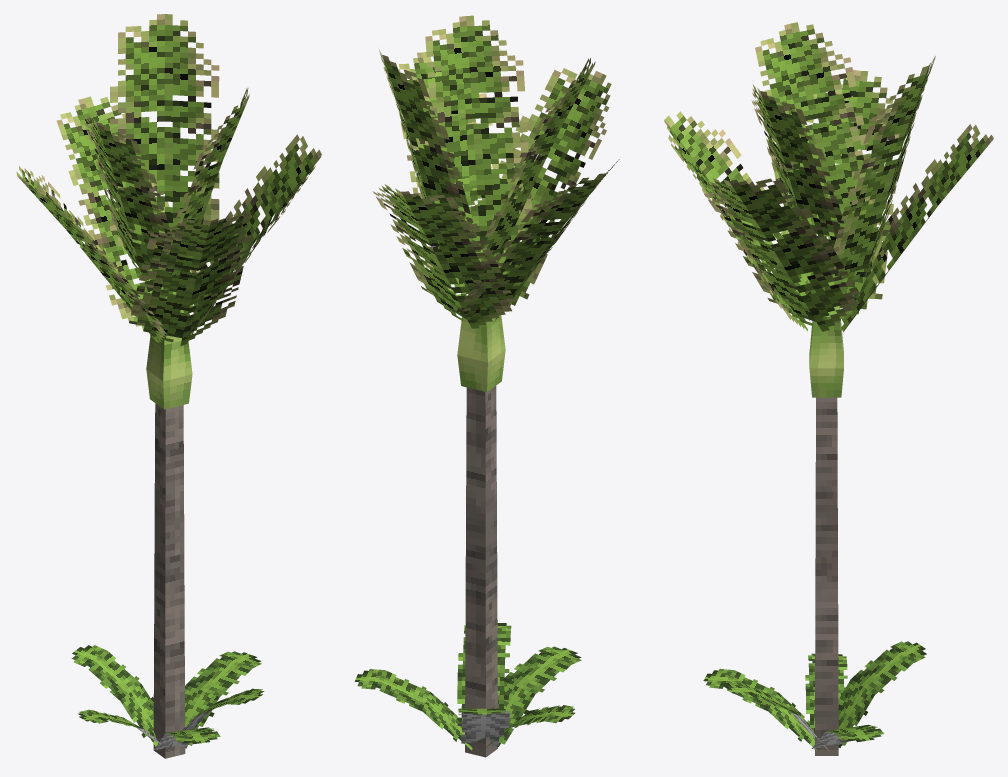
File: natives.gltf
3 views of the same model, side by side, from view 1: azimuth 30°, elevation 25°; view 2: azimuth 150°, elevation 25°; view 3: azimuth 270°, elevation 25° (orthographic). The views are drawn at different scales.
Parts seen in each view (by area): view 1: Nikau, Silver Fern; view 2: Nikau, Silver Fern; view 3: Nikau, Silver Fern.
Boxes of the visible parts, x1=… form: Nikau: x1=16, y1=14, x2=321, y2=758; Silver Fern: x1=71, y1=645, x2=264, y2=751; Nikau: x1=372, y1=15, x2=619, y2=757; Silver Fern: x1=354, y1=620, x2=581, y2=751; Nikau: x1=664, y1=22, x2=993, y2=755; Silver Fern: x1=703, y1=641, x2=926, y2=750.
Size of the model in its own units: 3.71 by 9.93 by 4.2.
2 materials, 2 textured.
